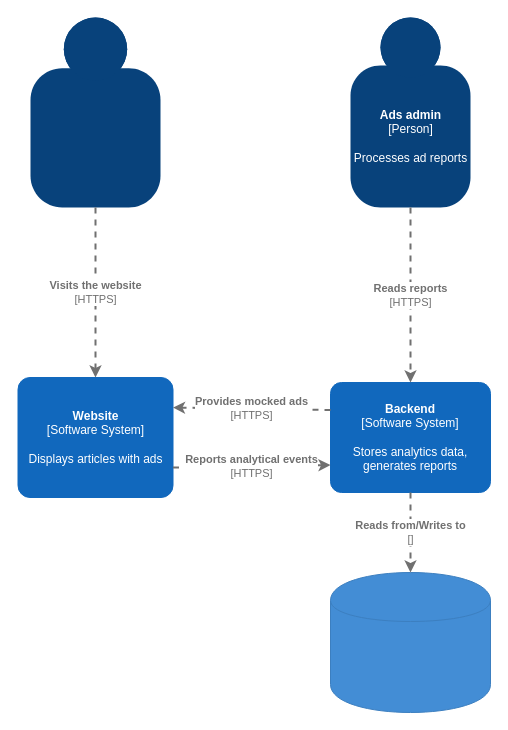
The diagram is 508 pixels wide and 730 high, and some of its shapes have lost their labels. The shapes that lost their labels are listed below. From the top down, each one's centre as x and y in pixels, then its label:
At (x=95, y=112): "Website visitor [Person] Visits the page, reads articles clicks on ads".
At (x=410, y=642): "Database [Container: MongoDB Atlas] Stores analytics data".
